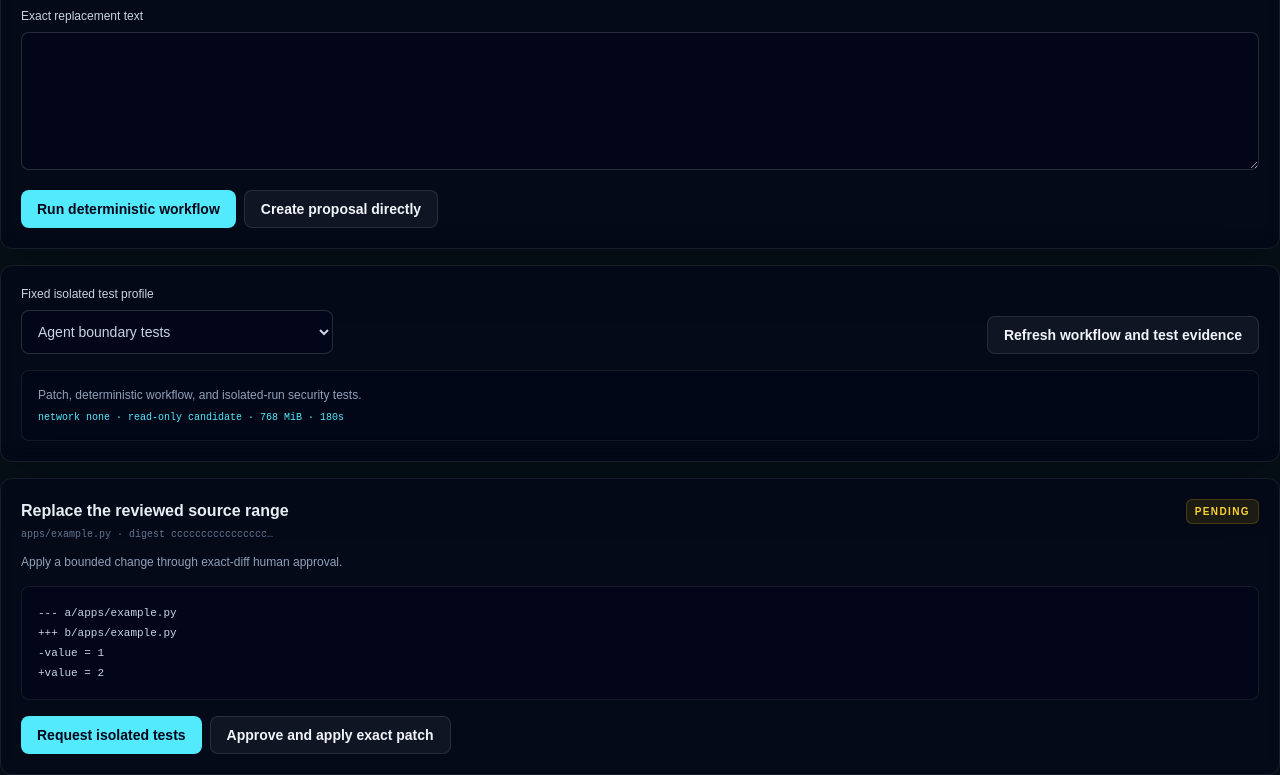
Scenario: RepositoryPatchWorkspace › keeps isolated test approval separate from patch application
(page scrolled)
Click the button "Request isolated tests": (111, 735) [21,716,202,754]
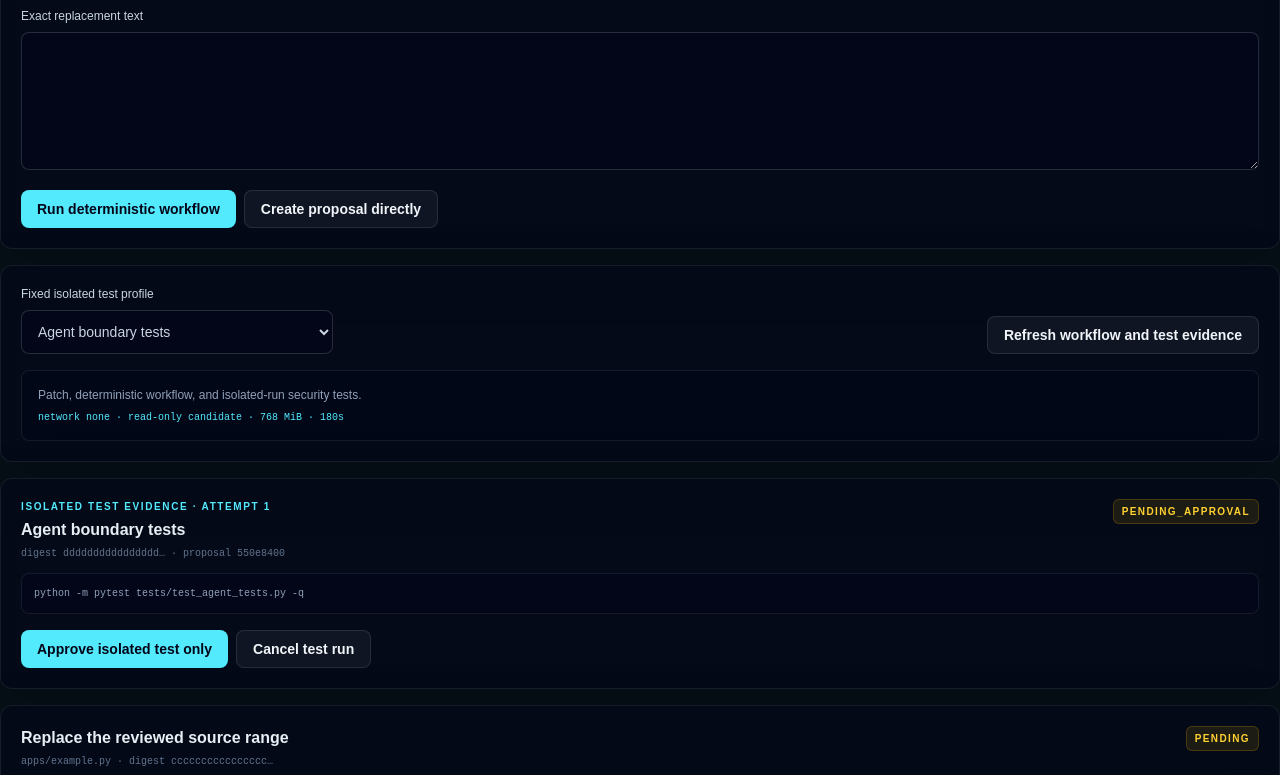
Expected: the text "pending_approval" is shown, [1113,499,1259,524]
Click the button "Approve isolated test only": (124, 649) [21,630,228,668]
(page scrolled)
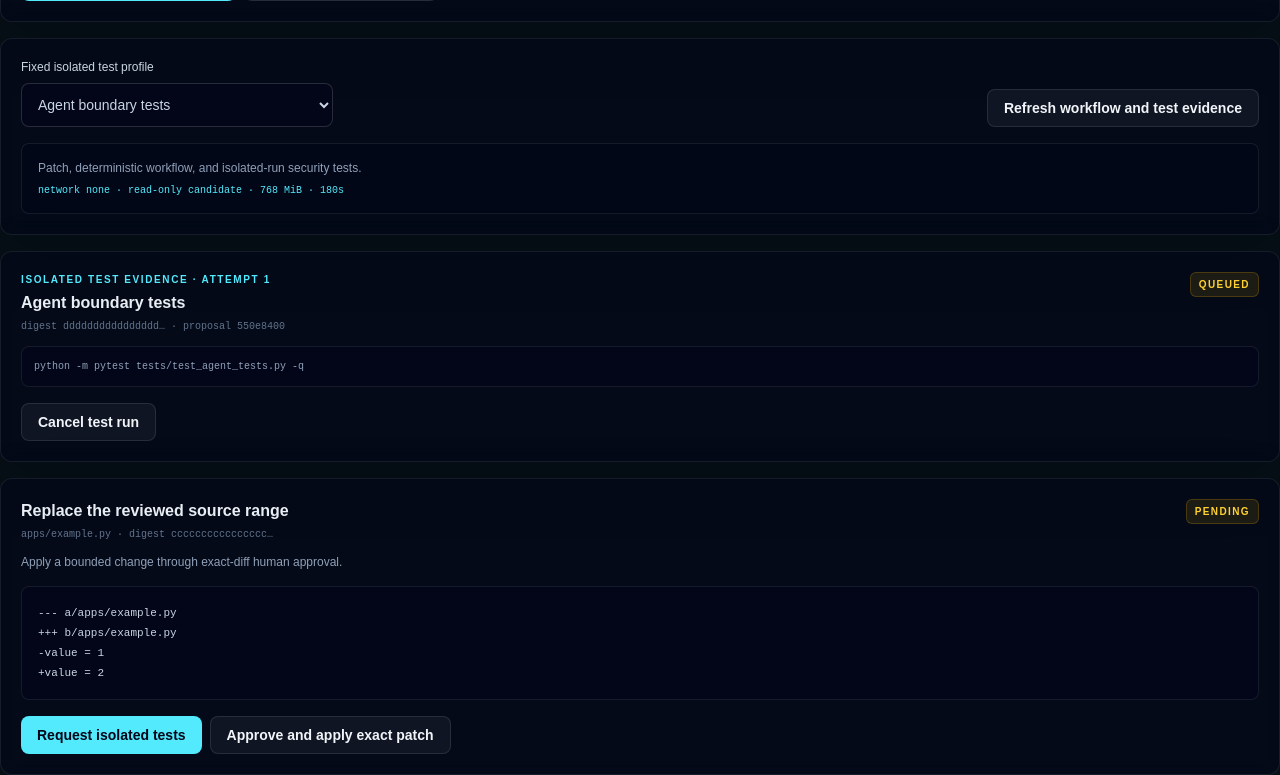
Expected: the button "Approve and apply exact patch" is shown, [210,716,451,754]
Expected: the text "queued" is shown, [1190,272,1259,297]
